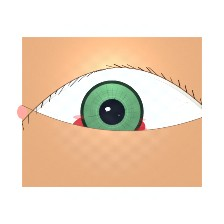hemorrhage_spot: (58, 86, 159, 167)
